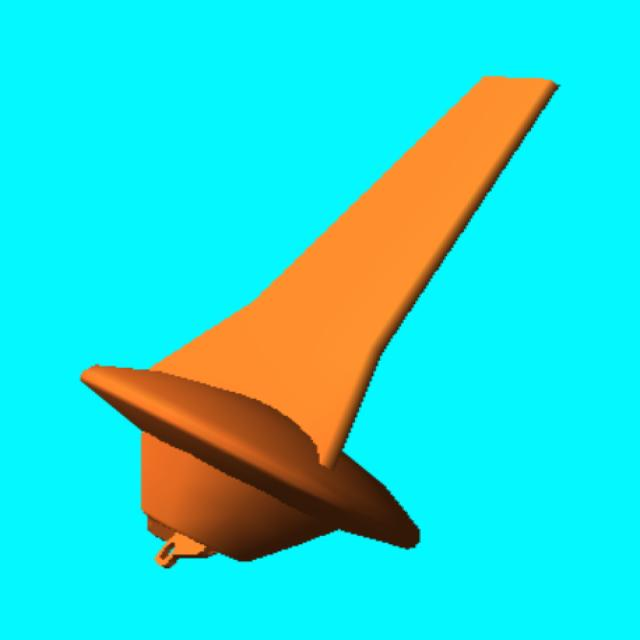OrangeBuoy: (83, 78, 556, 567)
